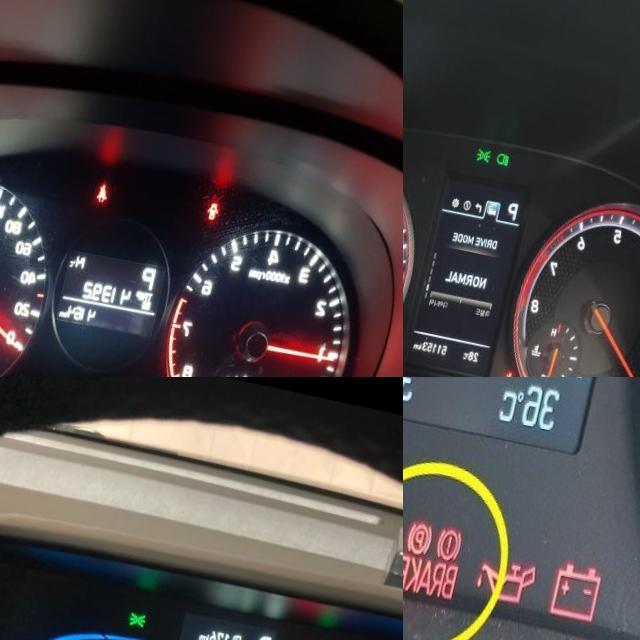Low beam: (506, 139, 521, 153), (322, 629, 340, 640)
SideLamp: (141, 602, 160, 619), (485, 135, 501, 152)
